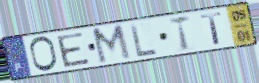E: (55, 31, 92, 69)
L: (128, 22, 160, 59)
M: (90, 22, 133, 66)
O: (28, 35, 60, 73)
T: (168, 14, 193, 53), (199, 10, 225, 47)
